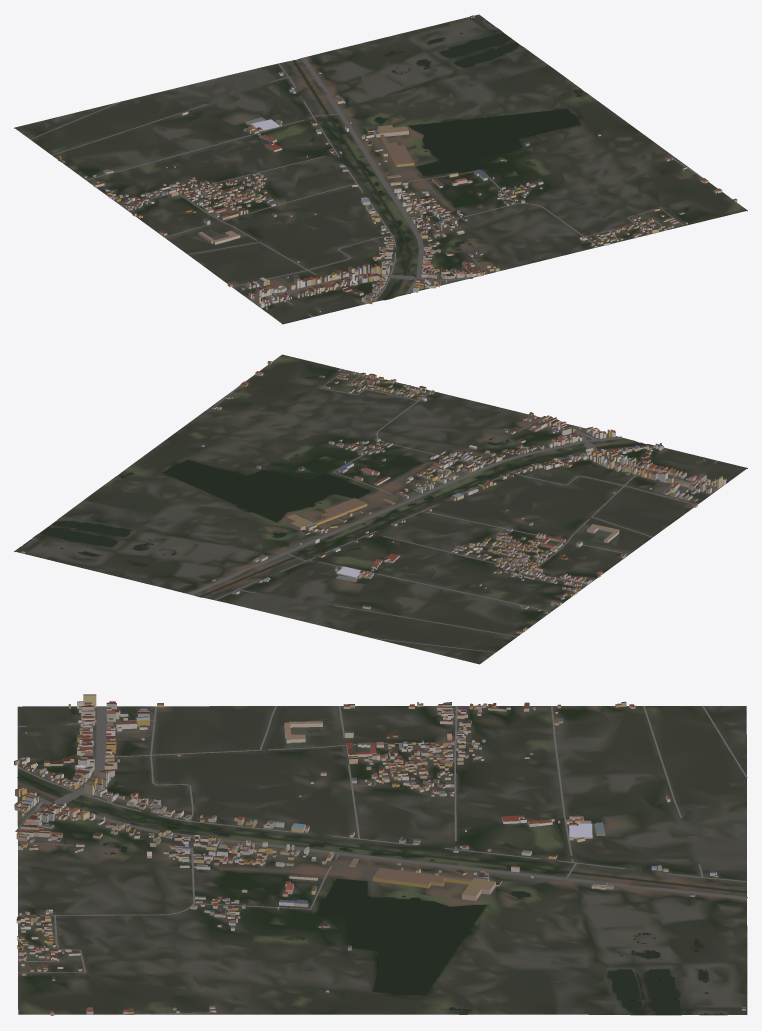
The picture shows the model from 3 angles, top to bottom: view 1: azimuth 30°, elevation 25°; view 2: azimuth 150°, elevation 25°; view 3: azimuth 270°, elevation 25°; orthographic projection. The views are drawn at different scales.
Parts seen in each view (by area): view 1: ground, buildings, water, roads; view 2: ground, buildings, water, roads; view 3: ground, buildings, water, roads.
Part boxes in pixels (left/top/right/bottom): ground: left=14, top=14, right=747, bottom=324; buildings: left=56, top=15, right=737, bottom=312; water: left=292, top=21, right=581, bottom=299; roads: left=30, top=57, right=708, bottom=316; ground: left=14, top=354, right=747, bottom=664; buildings: left=21, top=361, right=726, bottom=633; water: left=23, top=437, right=642, bottom=597; roads: left=189, top=370, right=718, bottom=652; ground: left=17, top=706, right=747, bottom=1015; buildings: left=14, top=694, right=745, bottom=1015; water: left=17, top=777, right=746, bottom=1014; roads: left=15, top=705, right=747, bottom=1014.
Size of the model in its own units: 1412 by 32.5 by 1411.
